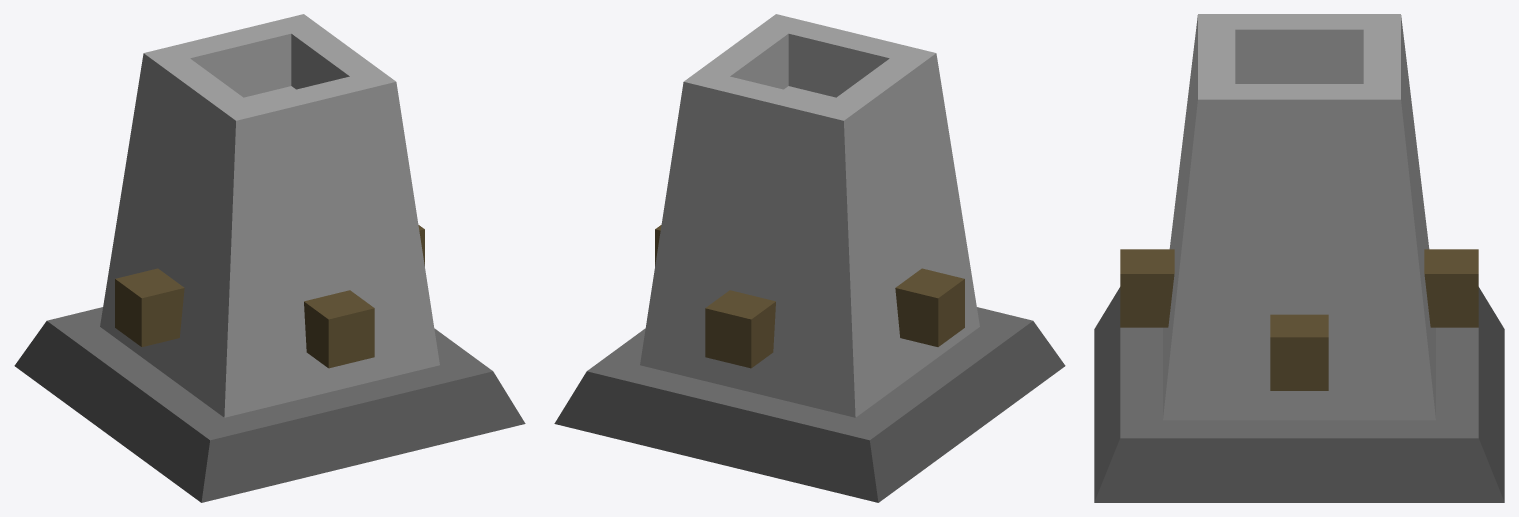
The model's file is Fire Stand 01.FBX.
3 views of the same model, side by side, from view 1: azimuth 30°, elevation 25°; view 2: azimuth 150°, elevation 25°; view 3: azimuth 270°, elevation 25° (orthographic). The views are drawn at different scales.
Visible parts, largest first — view 1: Fire Stand 01; view 2: Fire Stand 01; view 3: Fire Stand 01.
Boxes of the visible parts, x1,y1,x2,y2 form: Fire Stand 01: [14, 14, 525, 502]; Fire Stand 01: [554, 14, 1065, 502]; Fire Stand 01: [1094, 14, 1504, 502].
Size of the model in its own units: 70.47 by 68.04 by 70.47.
